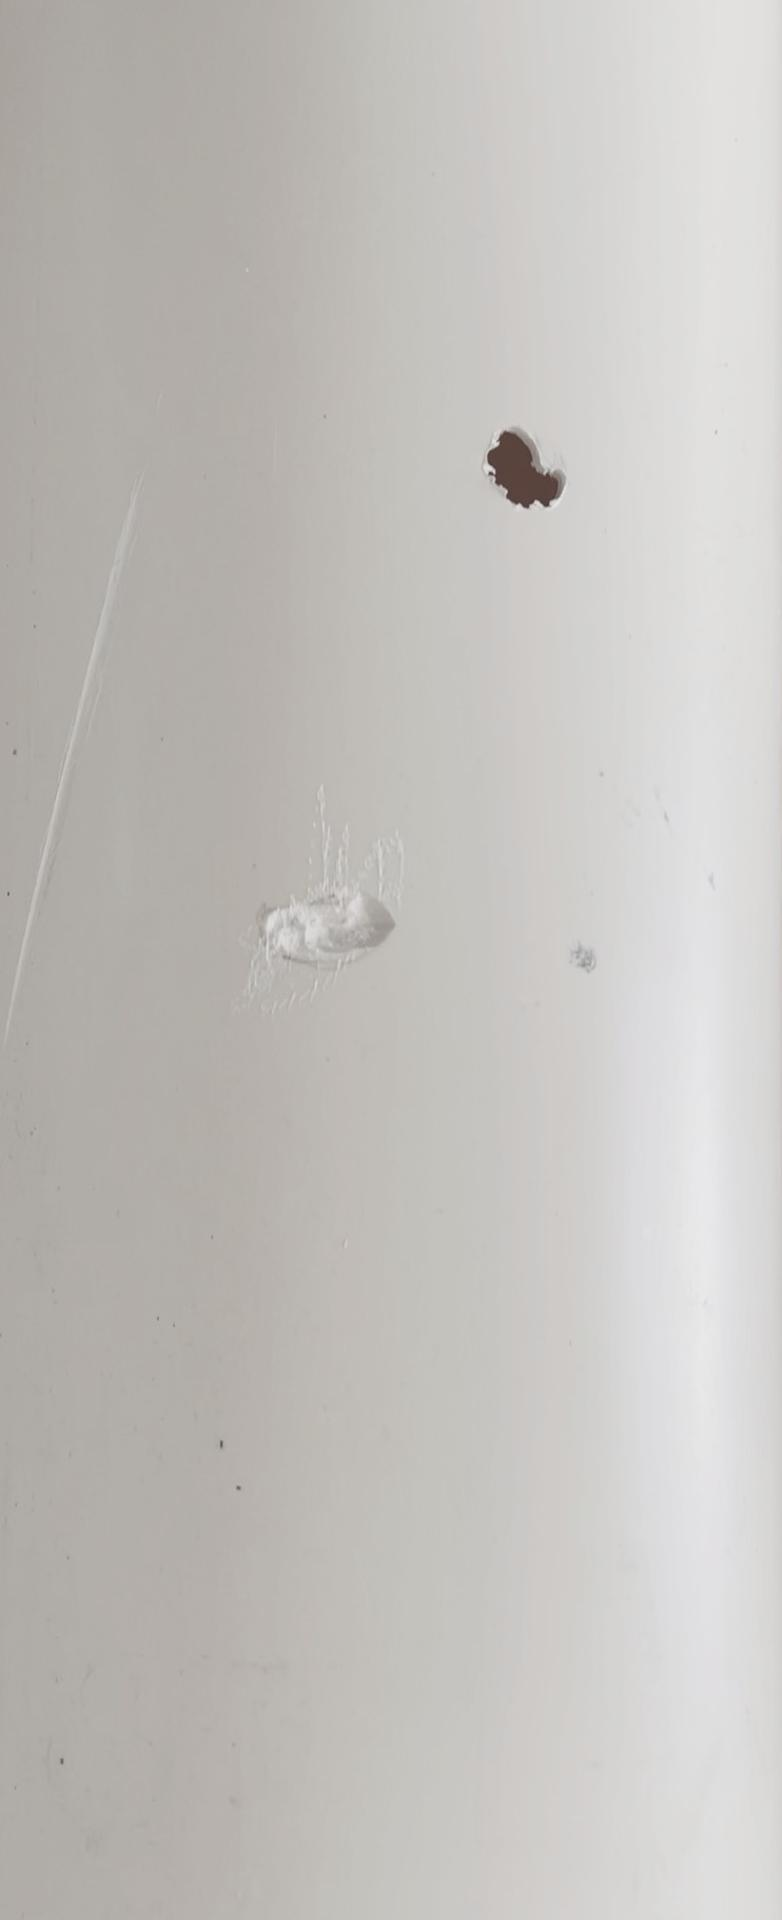kongdong: (456, 397, 591, 524)
sunshang: (7, 465, 170, 1024), (250, 876, 416, 967)
